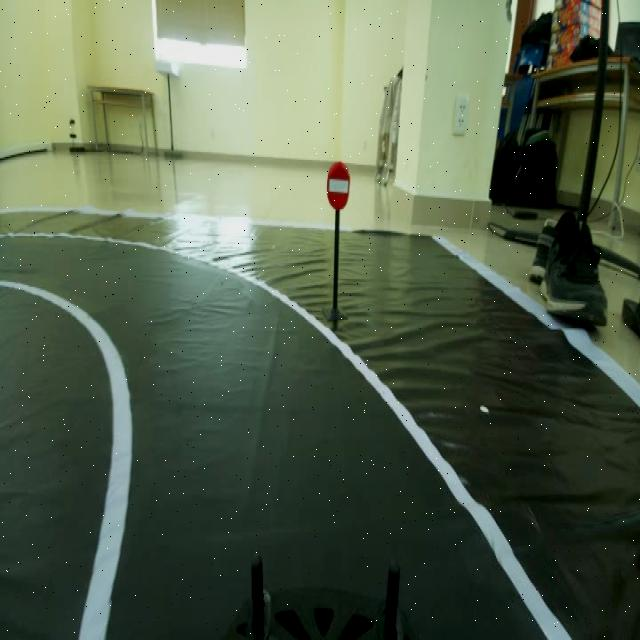no_entry: (319, 162, 357, 213)
